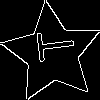T: (27, 28, 76, 64)
